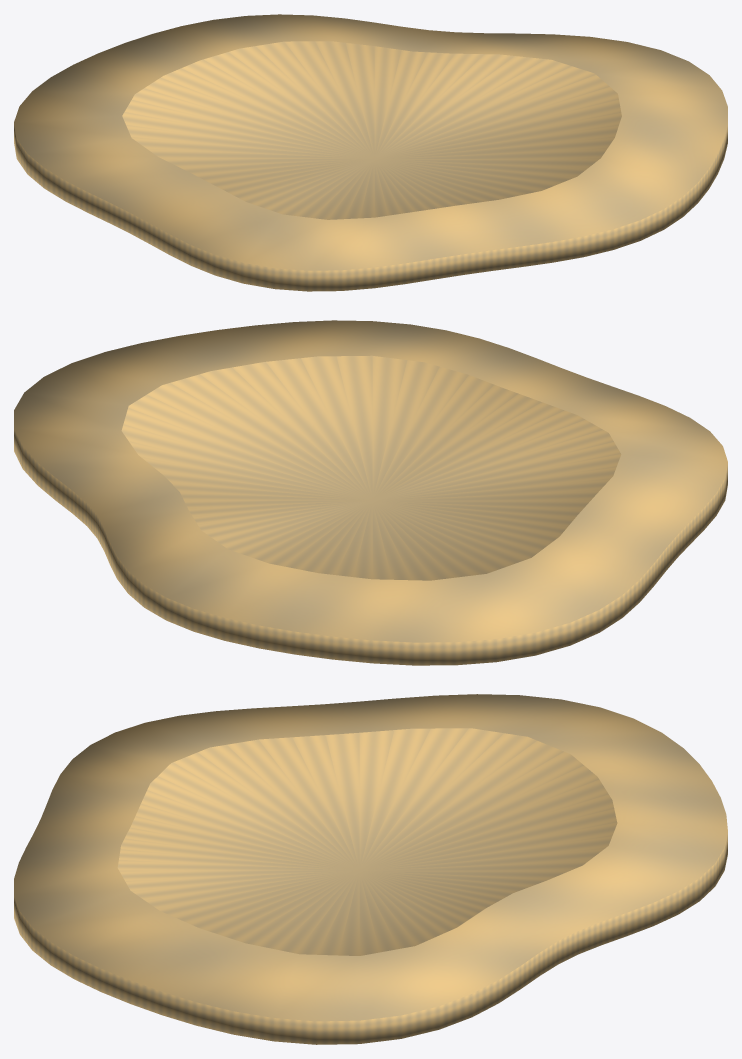
Rendered from ISL-S_LOD1_Beach.fbx.
The picture shows the model from 3 angles, top to bottom: view 1: azimuth 30°, elevation 25°; view 2: azimuth 150°, elevation 25°; view 3: azimuth 270°, elevation 25°; orthographic projection. The views are drawn at different scales.
Visible parts, largest first — view 1: ISL-S_LOD1_Beach; view 2: ISL-S_LOD1_Beach; view 3: ISL-S_LOD1_Beach.
Part boxes in pixels (x1,y1,x2,y2): ISL-S_LOD1_Beach: [14, 14, 727, 291]; ISL-S_LOD1_Beach: [14, 320, 727, 665]; ISL-S_LOD1_Beach: [14, 694, 727, 1044].
Size of the model in its own units: 44.87 by 41.38 by 2.3.
